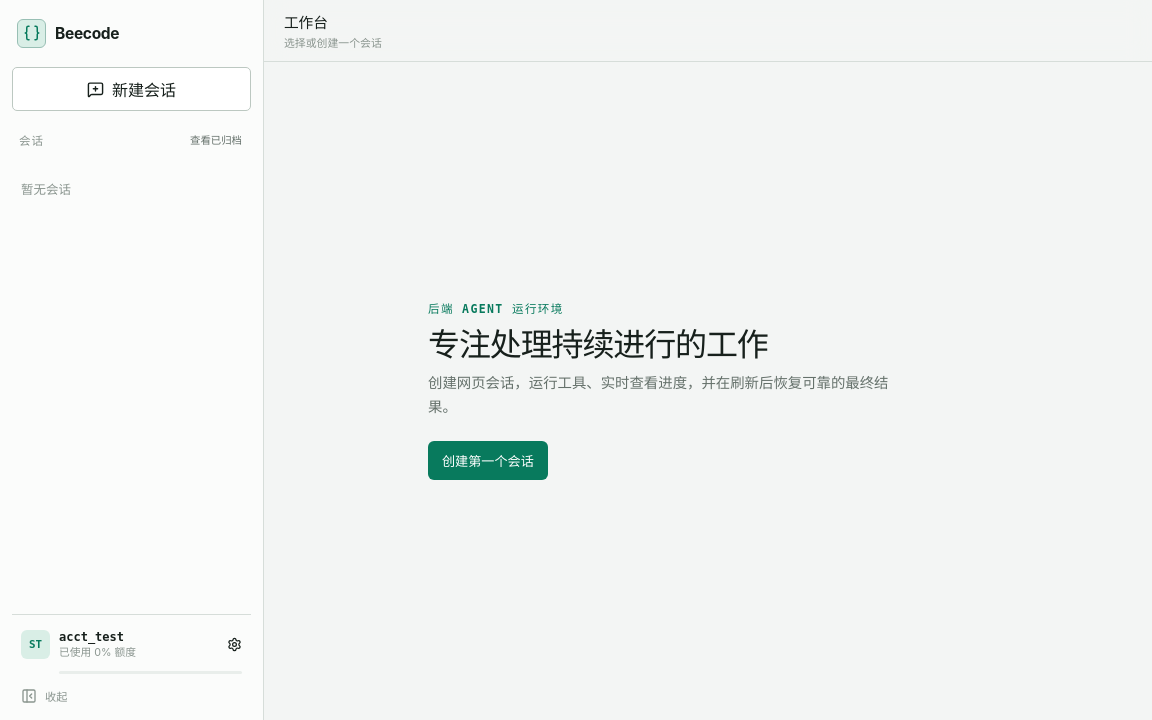
Workspace › renders a handled product error when session creation is rejected
Click the button "创建第一个会话": (488, 460) [428,441,548,480]
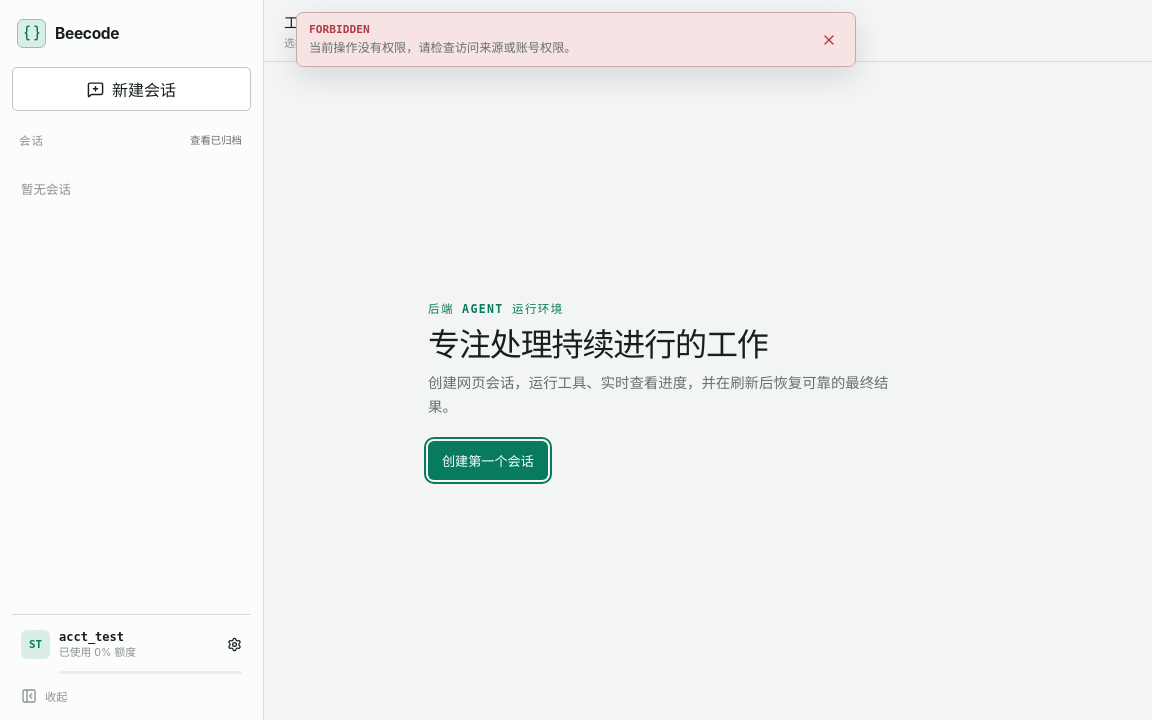
Now the message shows "FORBIDDEN", box [309,23,370,36]
Now the message shows "当前操作没有权限", box [309,40,576,55]
